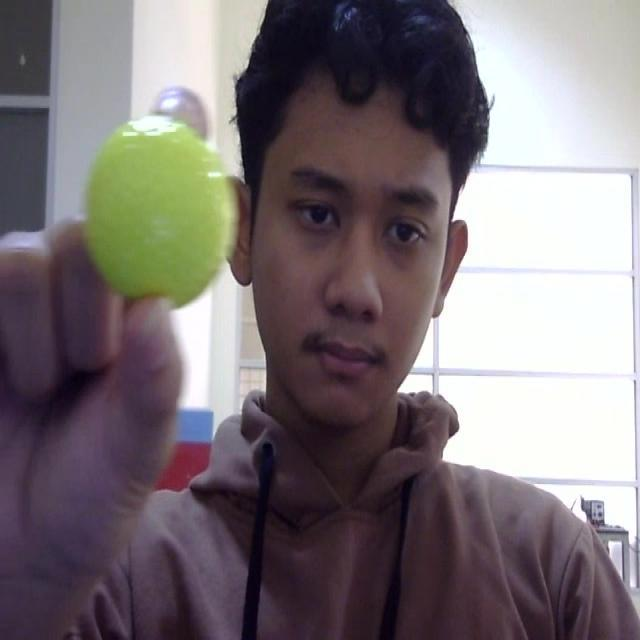golfball: (82, 117, 235, 305)
